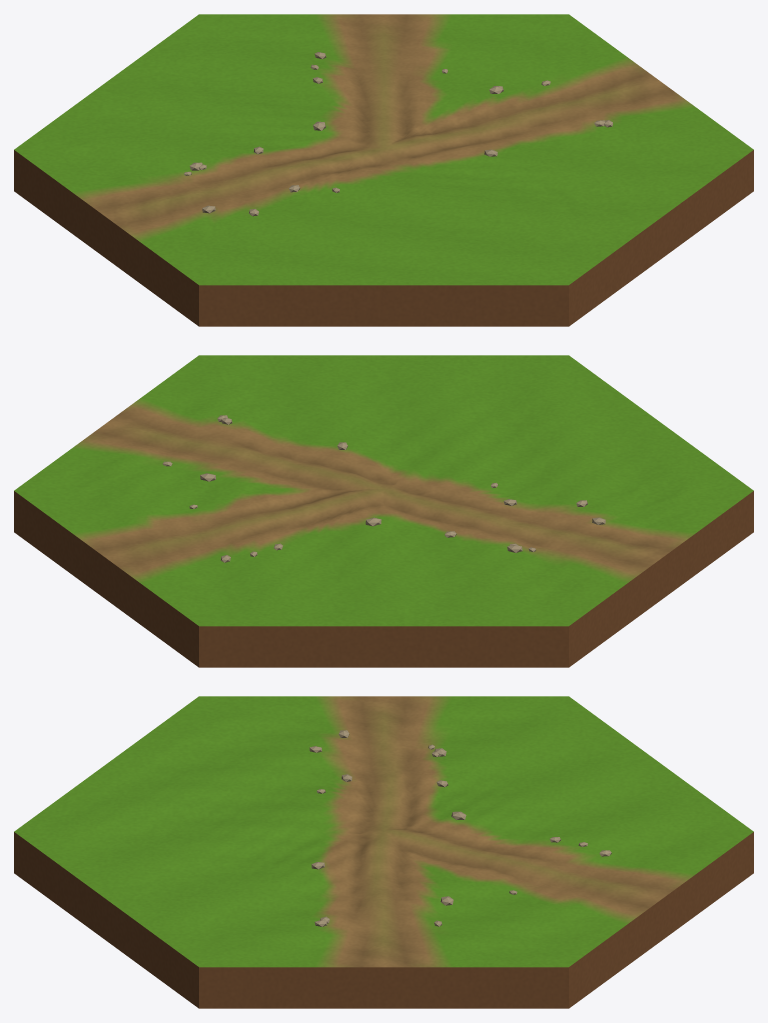
Rendered from SM_CaminoNatural_Cruce_LOD0.fbx.
The picture shows the model from 3 angles, top to bottom: view 1: azimuth 30°, elevation 25°; view 2: azimuth 150°, elevation 25°; view 3: azimuth 270°, elevation 25°; orthographic projection.
Visible parts, largest first — view 1: SM_CaminoNatural_Cruce_LOD0; view 2: SM_CaminoNatural_Cruce_LOD0; view 3: SM_CaminoNatural_Cruce_LOD0.
Part boxes in pixels (x1,y1,x2,y2): SM_CaminoNatural_Cruce_LOD0: (14, 14, 753, 326); SM_CaminoNatural_Cruce_LOD0: (14, 355, 753, 667); SM_CaminoNatural_Cruce_LOD0: (14, 696, 753, 1008).
Size of the model in its own units: 1.68 by 0.1382 by 1.94.
1 material, 1 textured.
